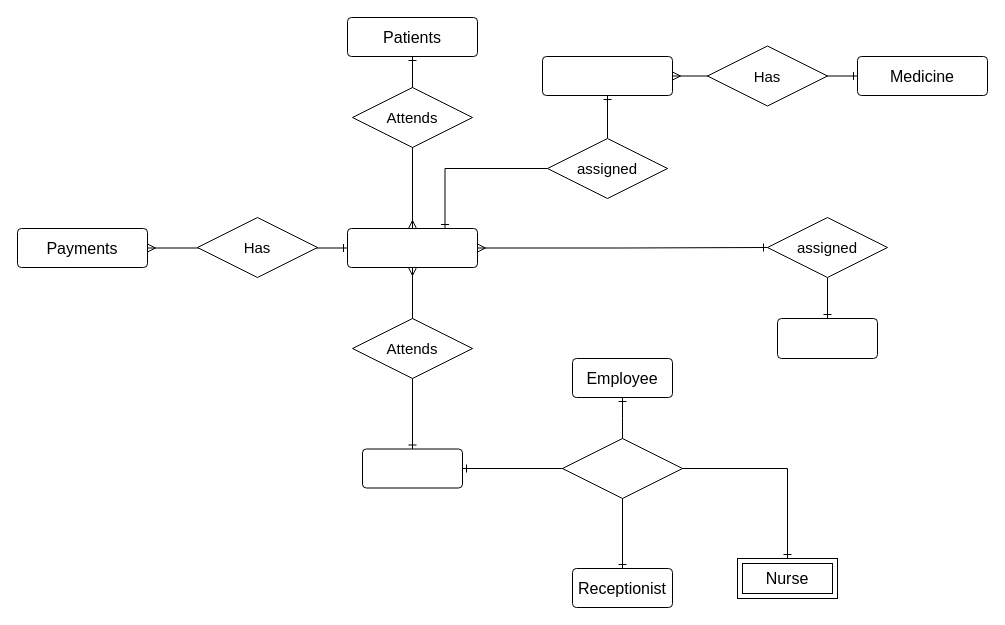
This 1005x625 diagram has some shape labels left out. The shapes that lost their labels are listed below. From the top down, each one's centre as x and y in pixels, then its label:
At pixel 607 76: "Treatments".
At pixel 412 248: "Appointments".
At pixel 827 338: "Rooms".
At pixel 412 468: "Doctor".
At pixel 622 468: "ISA".
